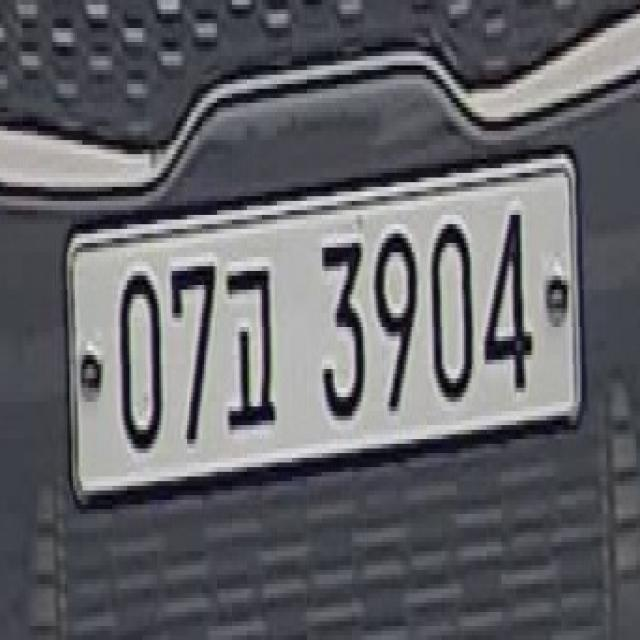0: (116, 252, 166, 464), (428, 214, 478, 412)
3: (314, 231, 368, 434)
4: (482, 200, 536, 413)
7: (169, 246, 219, 467)
9: (370, 215, 422, 432)
go: (224, 246, 287, 452)
license_plate: (52, 149, 594, 496)
